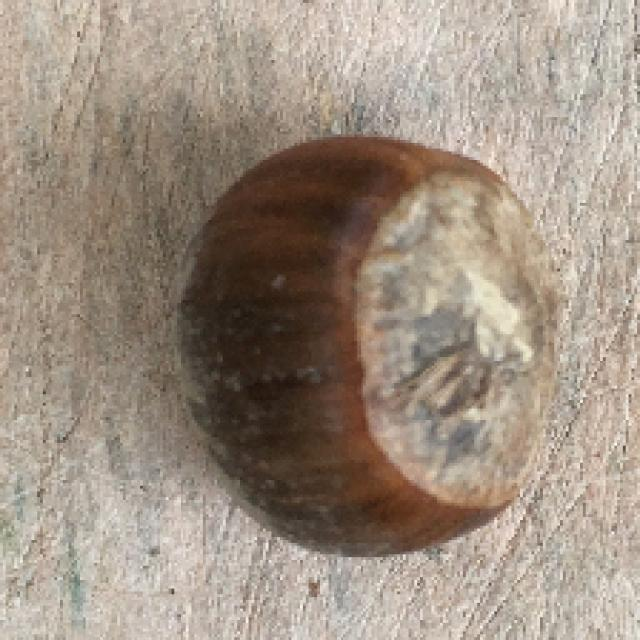damagedHazelnut: (163, 132, 562, 559)
